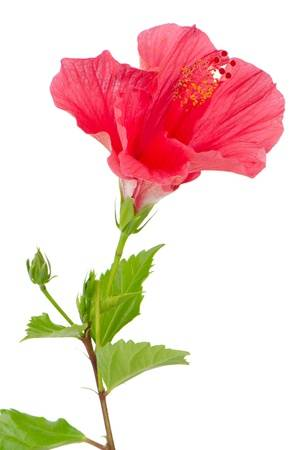Hibiscus: (49, 21, 298, 252), (23, 236, 66, 312)
